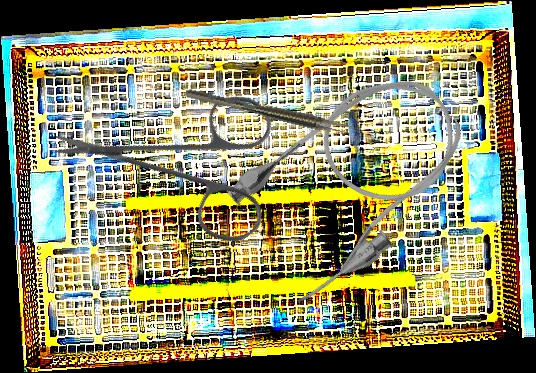Cannula: (213, 48, 494, 315)
Iris Scissors: (48, 26, 320, 299)
Tissue Forceps: (184, 83, 356, 139)
